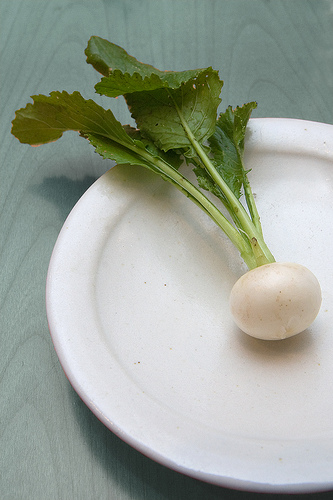turnip: (5, 31, 320, 345)
